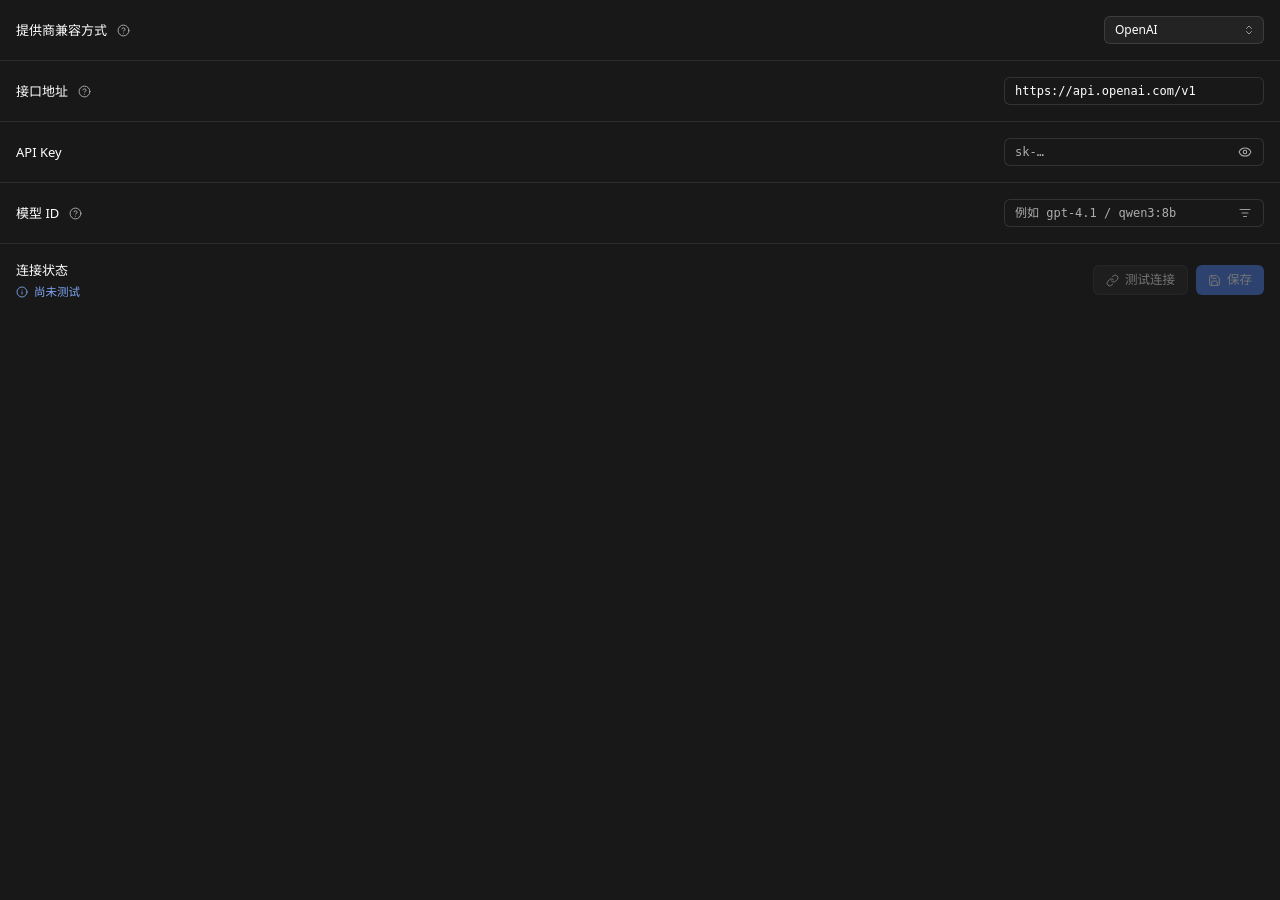
Scenario: ModelForm 模型 ID suggestions › shows the kit no-results state when nothing matches what was typed
The image size is (1280, 900).
Click the button named "从接口拉取模型列表": [1245, 213] box [1235, 203, 1255, 223]
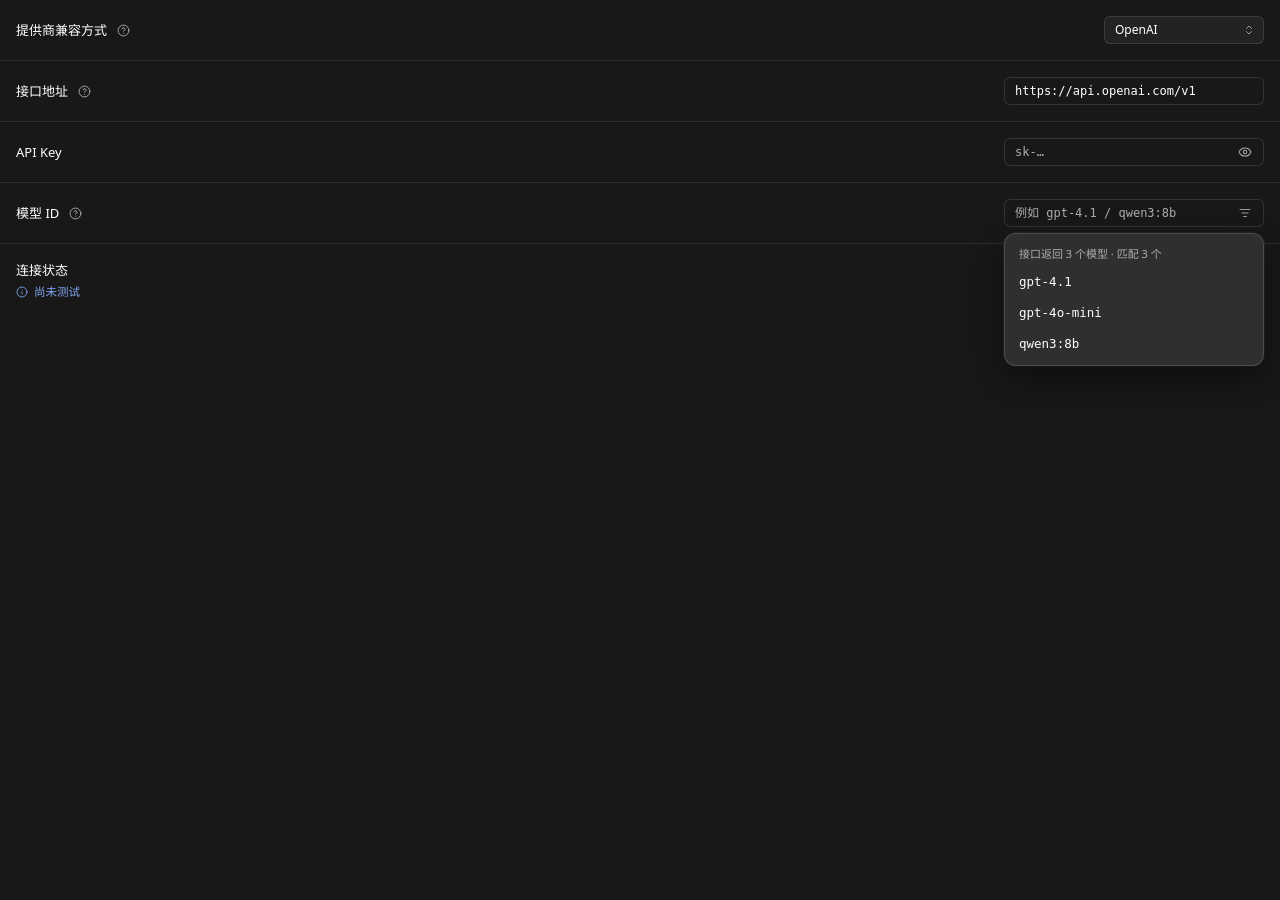
In the field labelled "模型 ID": [1121, 213] box [1015, 200, 1227, 226], type "claude"
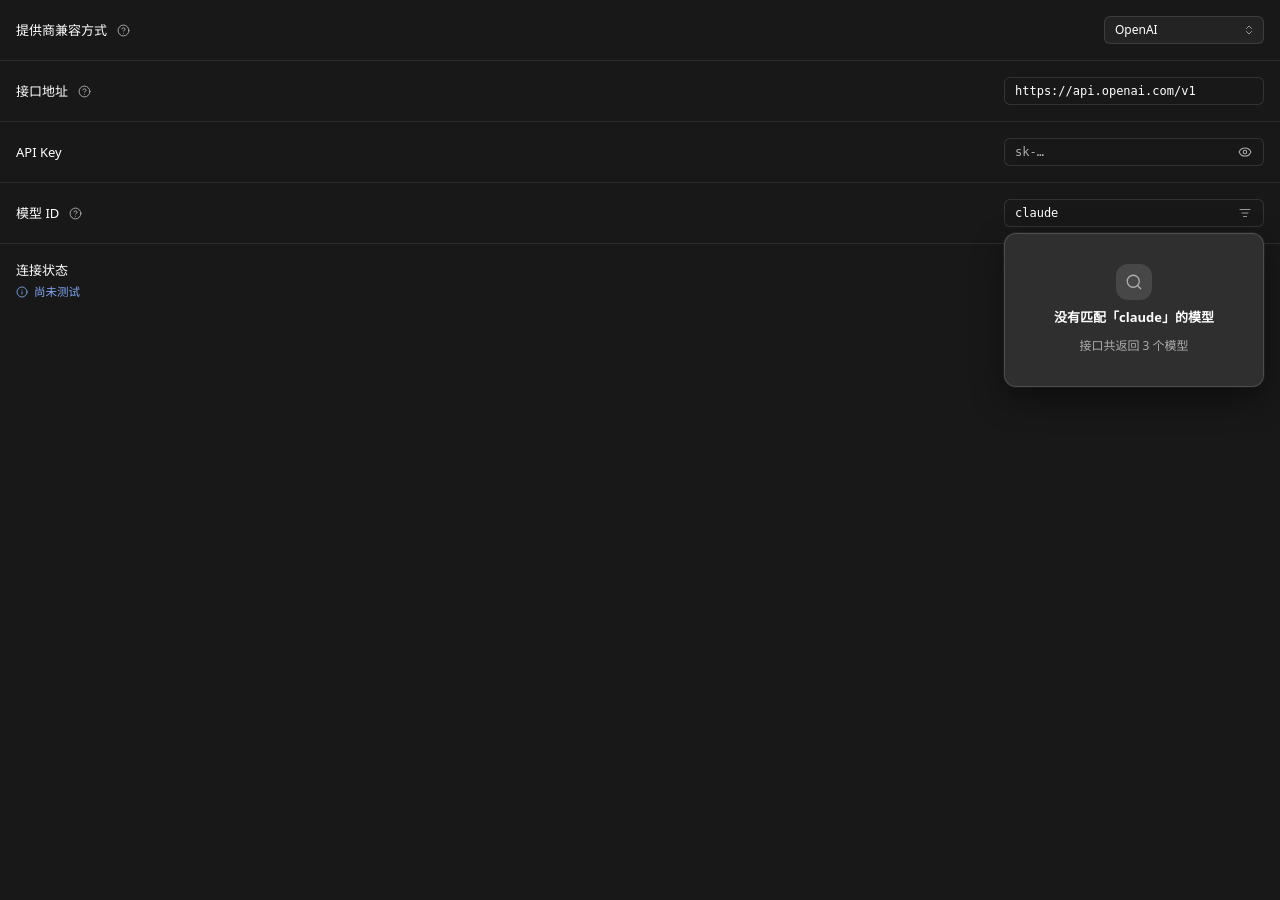
Check: the text "没有匹配「claude」的模型" is shown, box [1054, 308, 1214, 328]
Check: no options are shown
